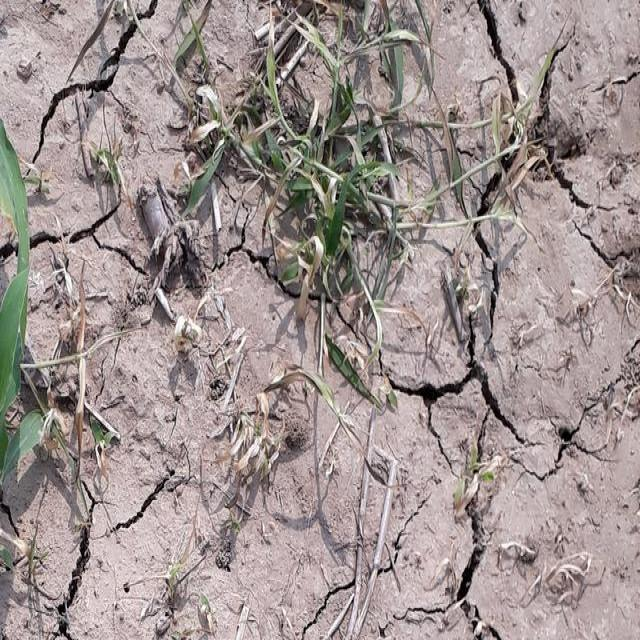weed: (194, 0, 411, 351)
